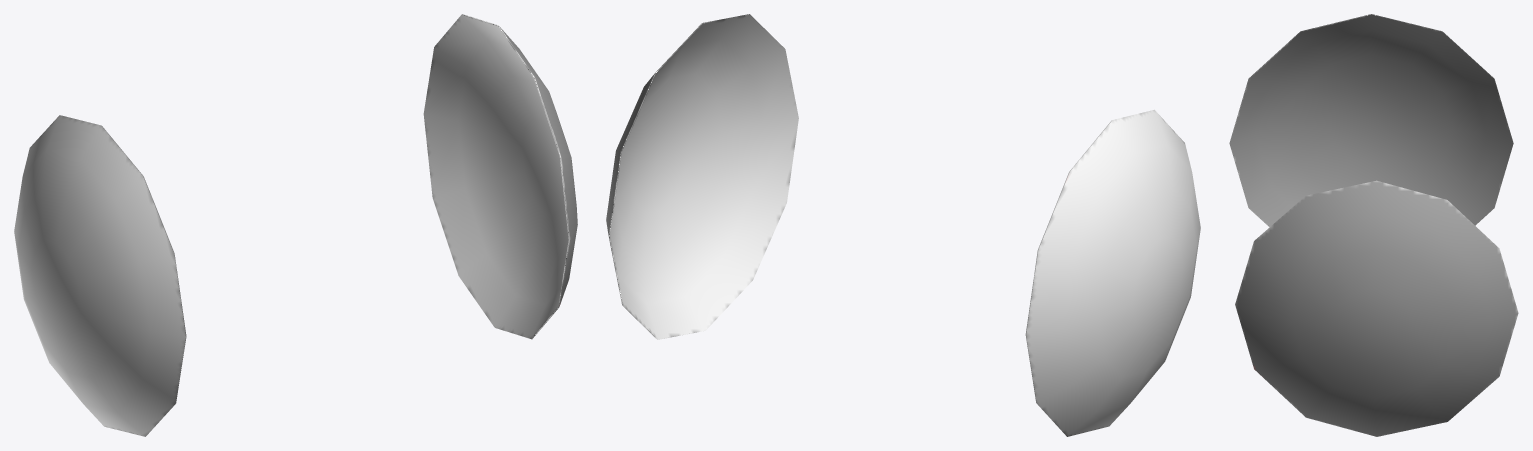
File: level 6.fbx
3 views of the same model, side by side, from view 1: azimuth 30°, elevation 25°; view 2: azimuth 150°, elevation 25°; view 3: azimuth 270°, elevation 25° (orthographic). The views are drawn at different scales.
Visible parts, largest first — view 1: concave, convex; view 2: convex, concave; view 3: convex, concave.
Boxes of the visible parts, <box> form: concave: <box>14,115,186,436</box>; convex: <box>423,14,577,339</box>; convex: <box>606,14,798,339</box>; concave: <box>1025,109,1200,436</box>; convex: <box>1235,180,1518,436</box>; concave: <box>1229,14,1513,227</box>.
Bounding box in the file's own units: 88.01 × 51.19 × 52.07.
1 material, 1 textured.
